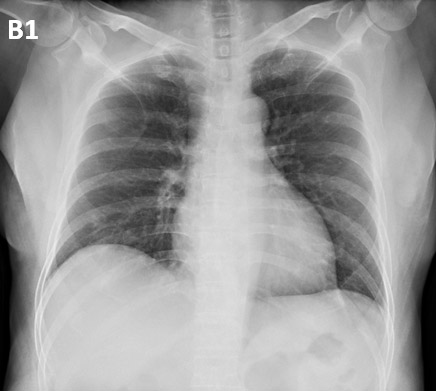Mildw: (248, 47, 384, 315), (44, 48, 200, 276)
